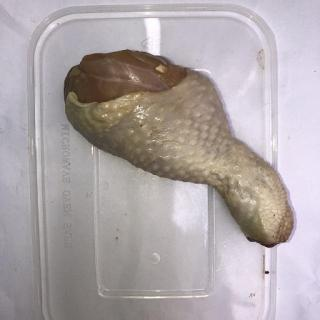Ayam: (63, 49, 295, 249)
